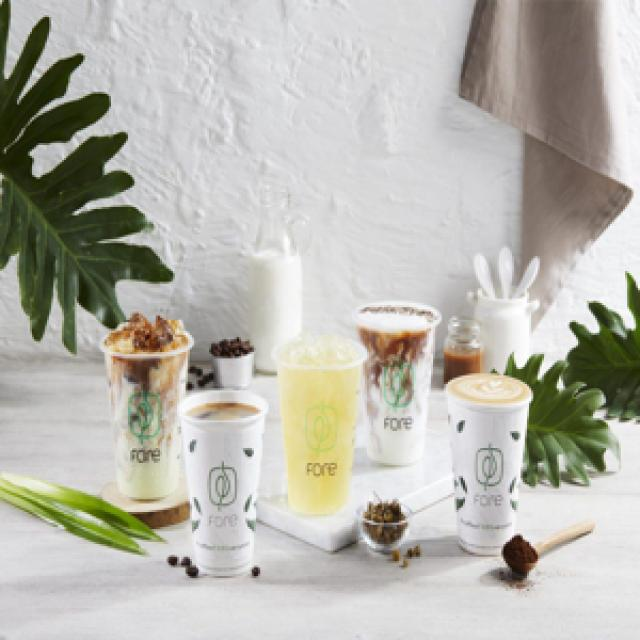plastic cup: (267, 328, 371, 522), (440, 365, 538, 565), (96, 322, 198, 514), (177, 382, 275, 580), (348, 298, 448, 476)
